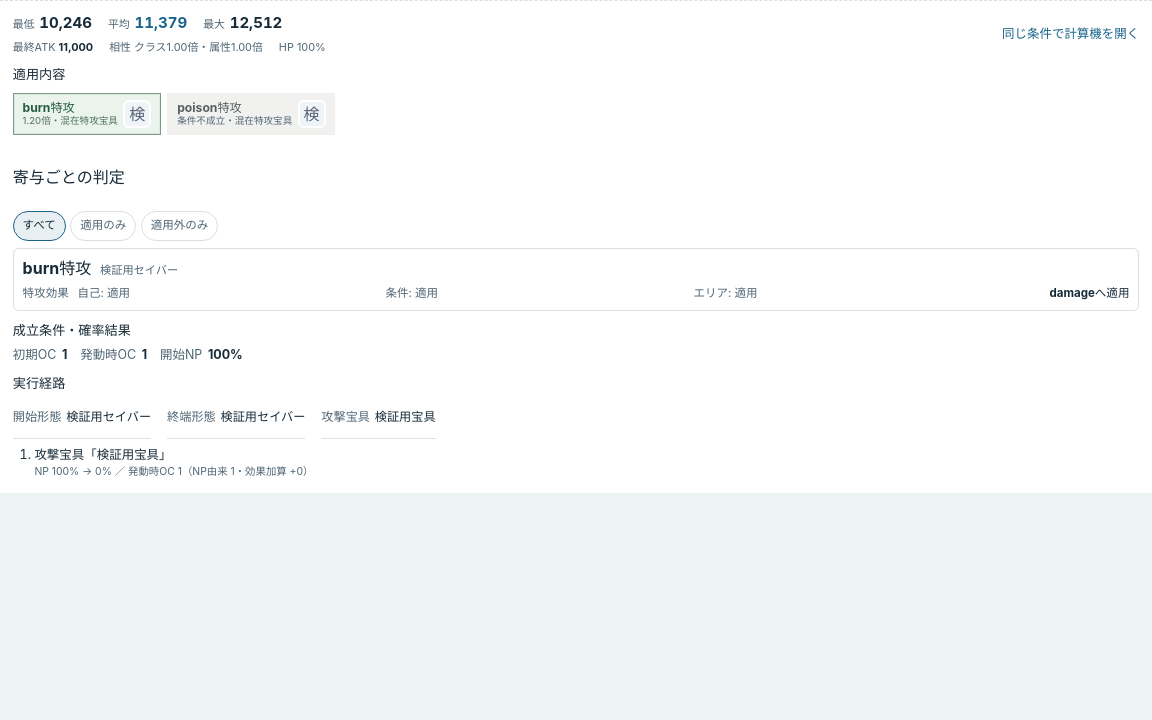
Test: ranking contribution detail › renders mixed trait-count projections from each final outcome over one contribution
The image size is (1152, 720).
Expected: the list item "burn特攻" shows "1.20倍", [23,115,118,126]
Expected: the list item "poison特攻" shows "条件不成立", [177,115,292,126]
Click the button "適用外のみ": (180, 226) [141,211,218,241]
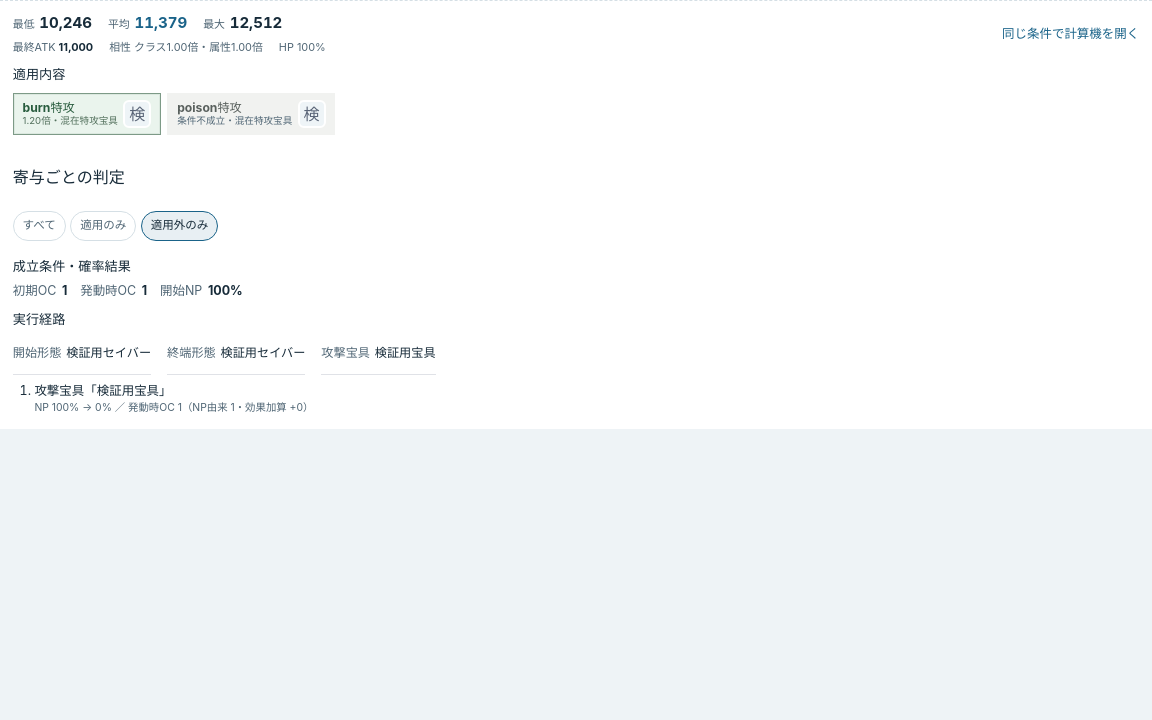
Expected: the text "寄与ごとのpolicy判定" no longer shows "damageへ適用"
Expected: no list items with class "ranking-contribution-group" are shown
